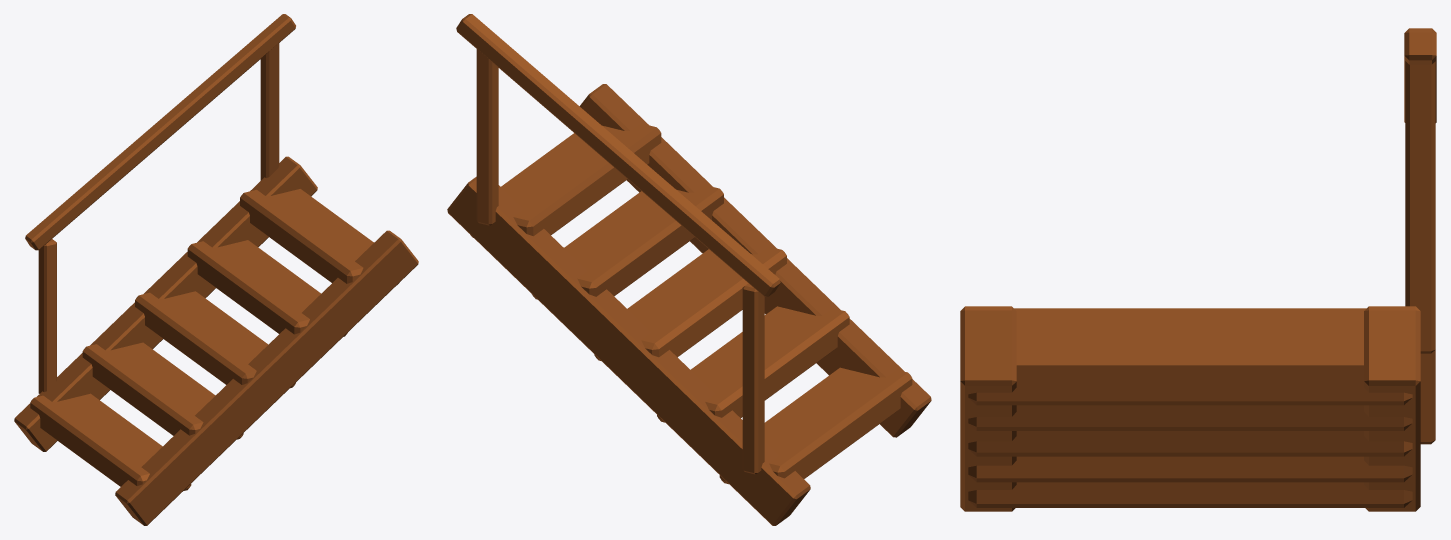
The model's file is EM_LandingStair.fbx.
3 views of the same model, side by side, from view 1: azimuth 30°, elevation 25°; view 2: azimuth 150°, elevation 25°; view 3: azimuth 270°, elevation 25° (orthographic). The views are drawn at different scales.
Parts seen in each view (by area): view 1: EM_LandingStair; view 2: EM_LandingStair; view 3: EM_LandingStair.
Boxes of the visible parts, <box> form: EM_LandingStair: <box>14,14,418,525</box>; EM_LandingStair: <box>447,14,931,525</box>; EM_LandingStair: <box>960,28,1436,511</box>.
Size of the model in its own units: 1.67 by 1.99 by 1.18.
